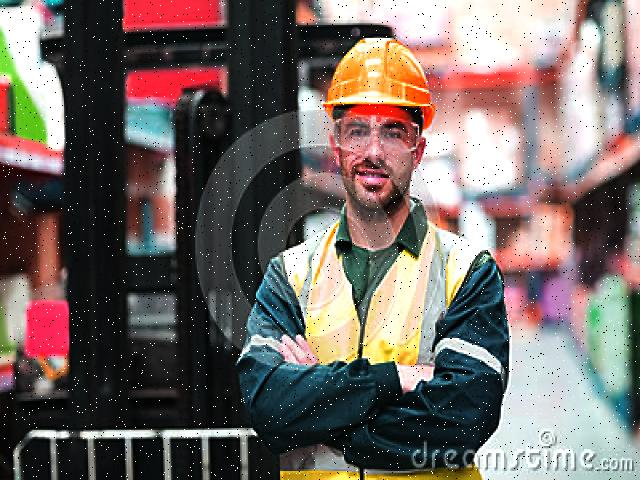Helmet: (315, 29, 438, 130)
